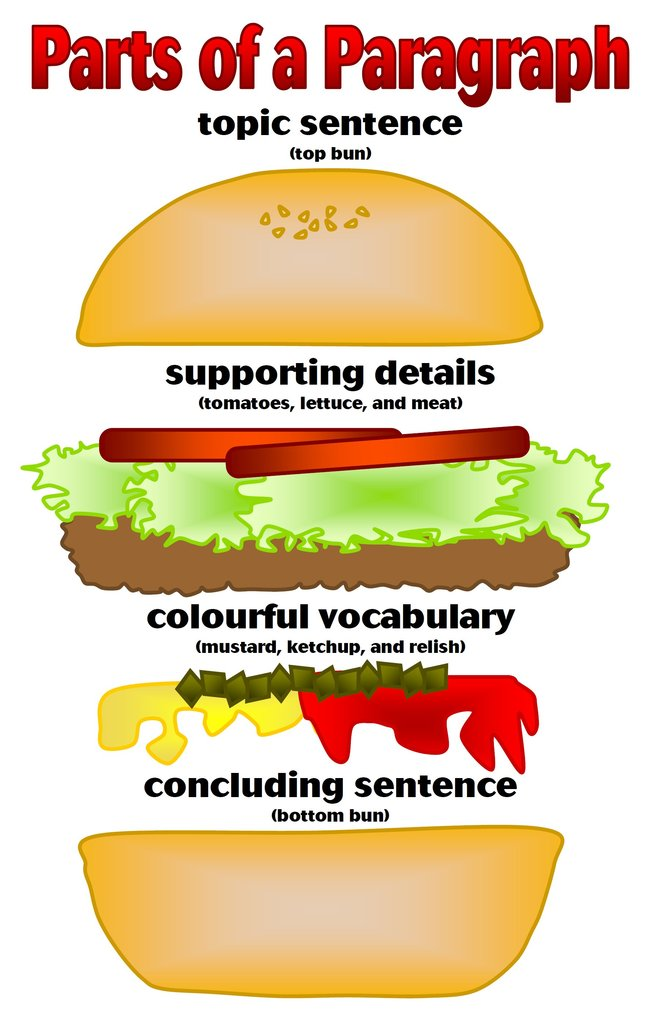Hamburger: (16, 166, 616, 999)
